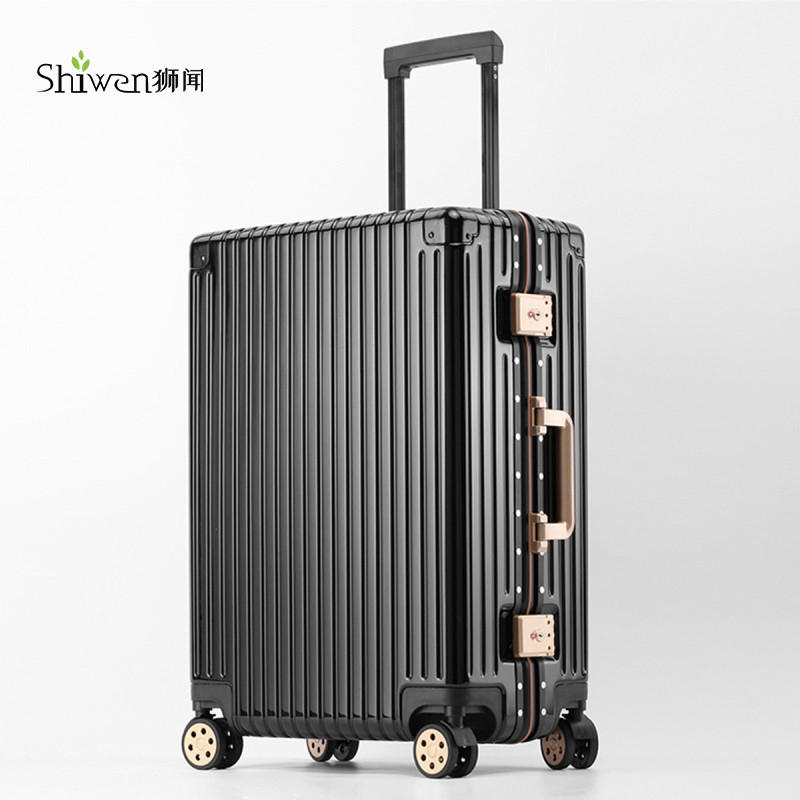box: (190, 208, 590, 744)
handle: (532, 392, 576, 555)
lock: (510, 291, 561, 338), (511, 613, 556, 657)
wheel: (413, 723, 479, 780), (181, 717, 244, 771), (541, 713, 599, 771), (304, 735, 361, 765)
